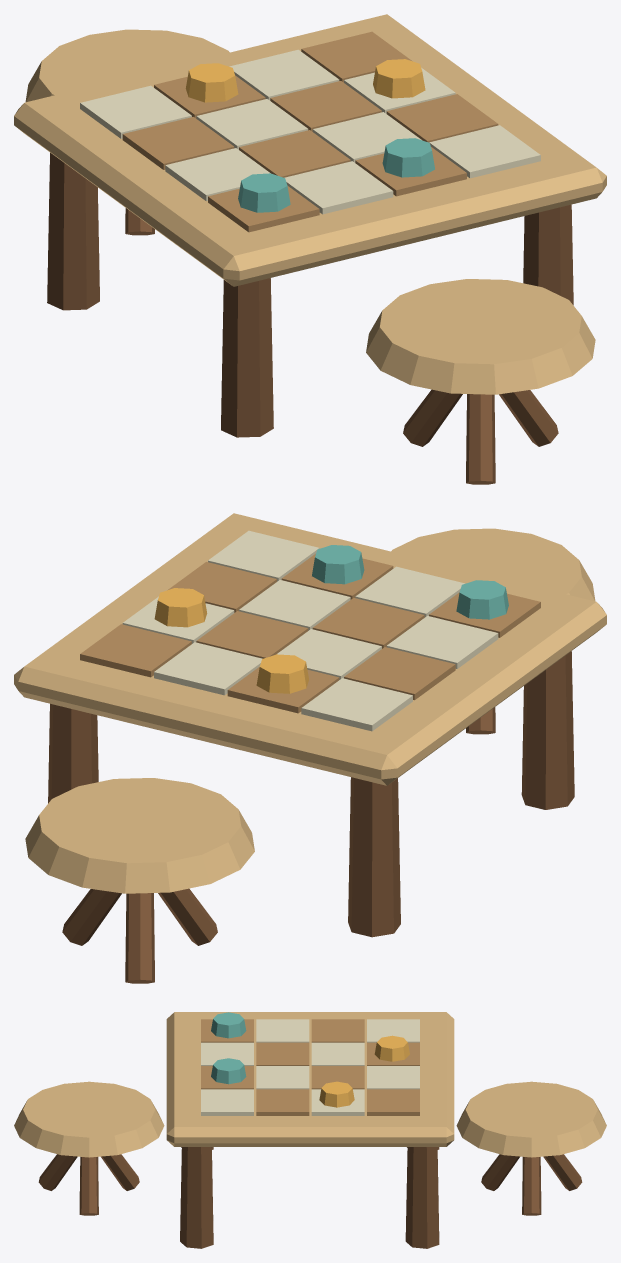
Rendered from CC_BoardGame.fbx.
The picture shows the model from 3 angles, top to bottom: view 1: azimuth 30°, elevation 25°; view 2: azimuth 150°, elevation 25°; view 3: azimuth 270°, elevation 25°; orthographic projection. The views are drawn at different scales.
Visible parts, largest first — view 1: Top.004, Stool seat.001, Leg.068, Stool seat.002, Leg.069, Leg.070, Square.012, Square.004, Square.002, Square.003, Square.006, Square.010 (+17 smaller); view 2: Top.004, Stool seat.002, Leg.069, Stool seat.001, Leg.068, Leg.071, Square.003, Square.015, Square.011, Square.001, Square.002, Square.005 (+17 smaller); view 3: Top.004, Stool seat.001, Stool seat.002, Leg.070, Leg.071, Square.013, Square.012, Square.015, Square.001, Square.002, Square.005, Square.006 (+19 smaller).
Part boxes in pixels (bbox=[...]): Top.004: bbox=[14, 14, 606, 286]; Stool seat.001: bbox=[366, 279, 595, 394]; Leg.068: bbox=[221, 278, 273, 437]; Stool seat.002: bbox=[25, 29, 229, 102]; Leg.069: bbox=[47, 152, 99, 310]; Leg.070: bbox=[523, 204, 573, 305]; Square.012: bbox=[429, 125, 540, 178]; Square.004: bbox=[284, 161, 393, 214]; Square.002: bbox=[122, 117, 234, 169]; Square.003: bbox=[80, 85, 191, 138]; Square.006: bbox=[196, 99, 308, 149]; Square.010: bbox=[270, 81, 381, 131]; Top.004: bbox=[14, 513, 606, 785]; Stool seat.002: bbox=[25, 778, 254, 893]; Leg.069: bbox=[348, 777, 400, 937]; Stool seat.001: bbox=[391, 528, 595, 601]; Leg.068: bbox=[521, 651, 574, 809]; Leg.071: bbox=[48, 703, 98, 803]; Square.003: bbox=[301, 678, 412, 731]; Square.015: bbox=[80, 624, 191, 677]; Square.011: bbox=[154, 642, 262, 695]; Square.001: bbox=[386, 616, 498, 668]; Square.002: bbox=[344, 647, 455, 700]; Square.005: bbox=[312, 598, 424, 648]; Top.004: bbox=[166, 1012, 454, 1146]; Stool seat.001: bbox=[14, 1081, 164, 1157]; Stool seat.002: bbox=[456, 1081, 606, 1157]; Leg.070: bbox=[180, 1147, 213, 1248]; Leg.071: bbox=[405, 1147, 439, 1248]; Square.013: bbox=[256, 1089, 309, 1115]; Square.012: bbox=[201, 1089, 253, 1115]; Square.015: bbox=[367, 1089, 419, 1115]; Square.001: bbox=[256, 1019, 309, 1042]; Square.002: bbox=[311, 1019, 364, 1042]; Square.005: bbox=[256, 1042, 309, 1065]; Square.006: bbox=[311, 1042, 364, 1065].
Size of the model in its own units: 1.3 by 0.722 by 2.68.
